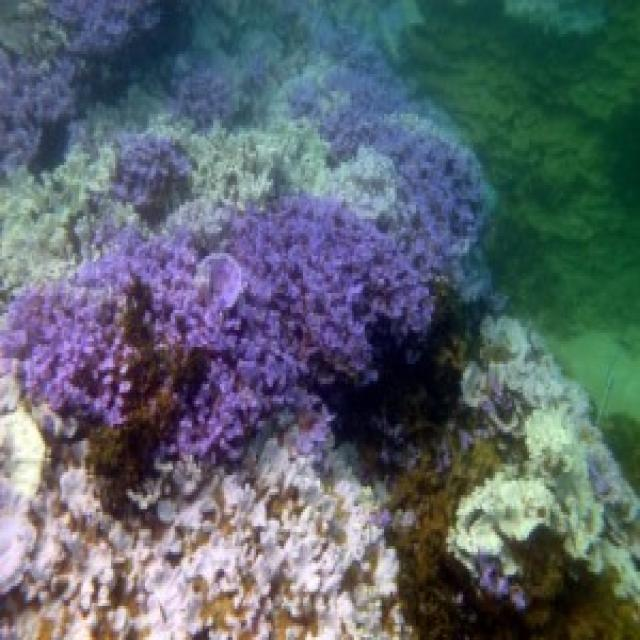Bleached: (1, 376, 408, 638), (464, 320, 639, 587), (1, 86, 167, 305), (449, 473, 600, 610), (191, 123, 327, 206), (1, 476, 37, 607)
Healthy: (88, 197, 434, 459), (291, 58, 487, 257), (1, 263, 131, 425), (1, 47, 76, 166), (112, 132, 193, 223), (48, 1, 161, 58), (170, 64, 244, 126)
